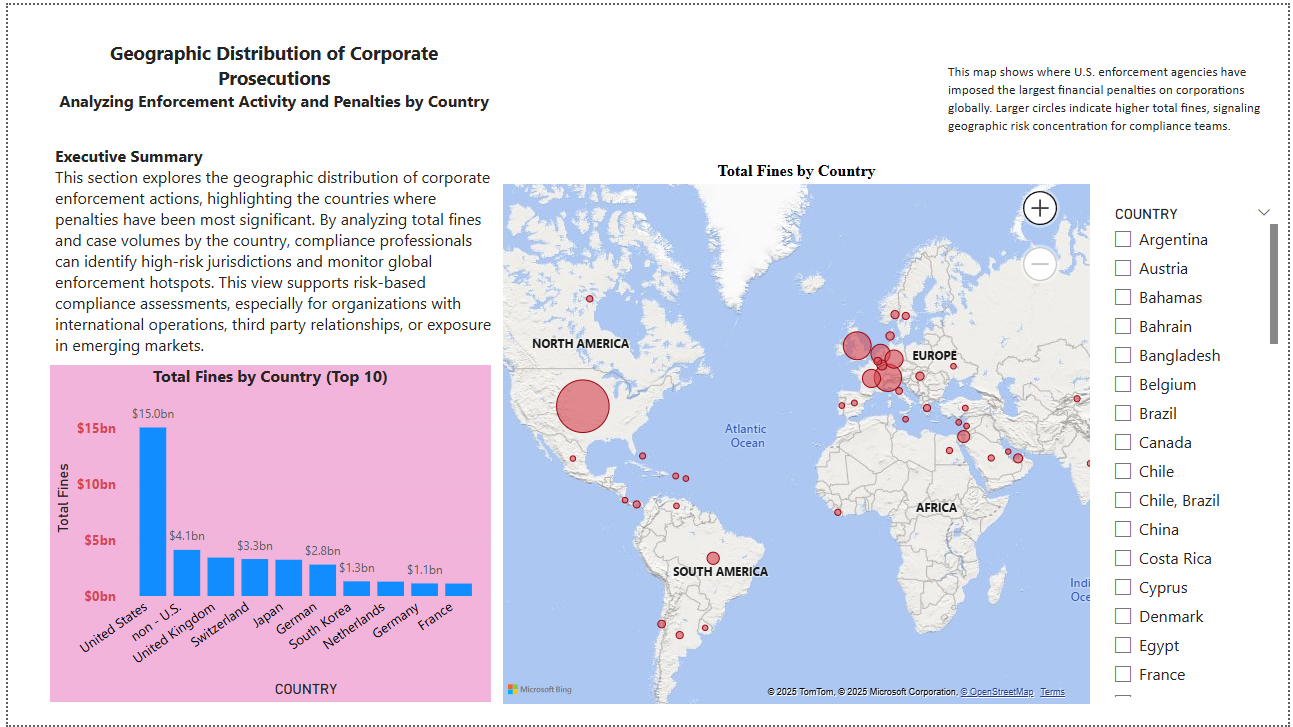

What the dashboard file says about the page in this screenshot:
{"tool":"powerbi","page":{"name":"Page 4: Geographic Enforcement","canvas":[1280,720],"ordinal":3},"visuals":[{"type":"textbox","box":[41.8,30.2,448.4,329.7],"z":0},{"type":"clusteredColumnChart","title":"Total Fines by Country (Top 10)","fields":{"Category":["cpr-data.COUNTRY"],"Y":["cpr-data.Total Fines"]},"box":[41.8,359.9,441.6,337.5],"z":1000},{"type":"map","title":"Total Fines by Country","fields":{"Category":["cpr-data.COUNTRY"],"Size":["cpr-data.Total Fines"]},"box":[490.2,156.6,597.2,547.6],"z":2000},{"type":"slicer","fields":{"Values":["cpr-data.COUNTRY"]},"box":[1094.2,195.5,180.9,501.9],"z":2001},{"type":"textbox","box":[934.7,51.6,331.7,95.3],"z":2002}]}

Visuals, with their boxes in screenshot pixels (x1, y1, x2, y2), scaled from the page's 1280x720 canvas onto the 1293x727 screenshot:
textbox: <region>42, 30, 495, 363</region>
"Total Fines by Country (Top 10)" clusteredColumnChart: <region>42, 363, 488, 704</region>
"Total Fines by Country" map: <region>495, 158, 1098, 711</region>
slicer - cpr-data.COUNTRY: <region>1105, 197, 1288, 704</region>
textbox: <region>944, 52, 1279, 148</region>
